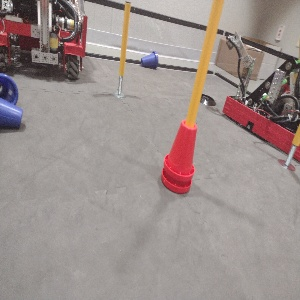Blue_1: (140, 49, 159, 70)
Red_2: (158, 116, 198, 194)
